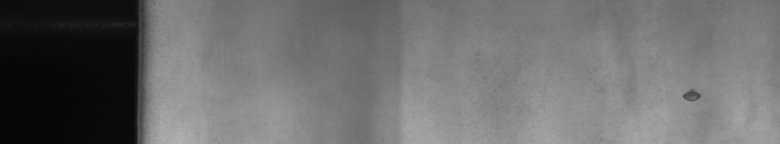fi: (680, 84, 704, 108)
